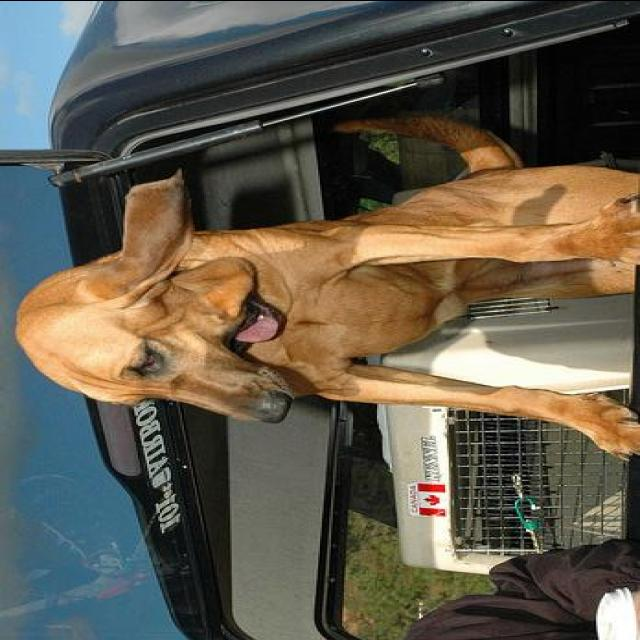bloodhound: (9, 111, 635, 468)
